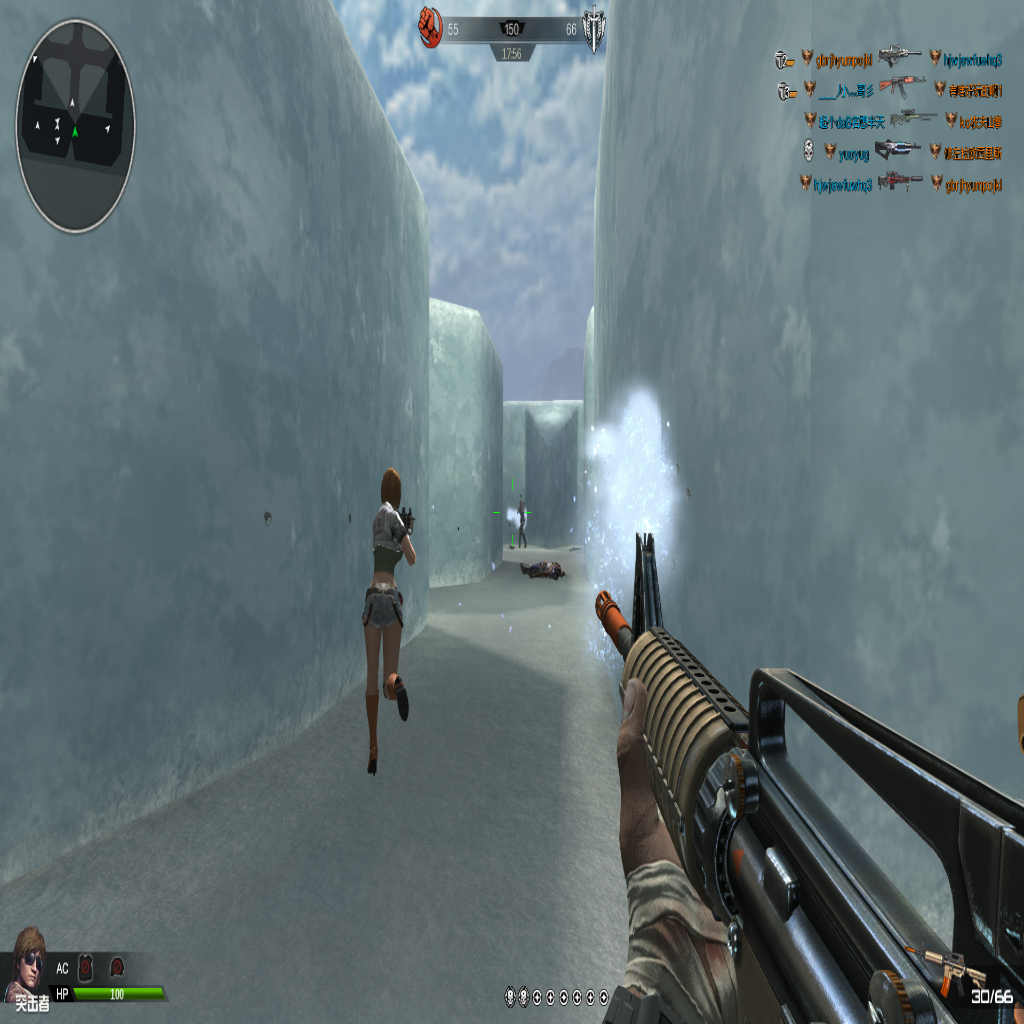ct: (517, 496, 527, 550)
tt: (358, 458, 417, 778)
